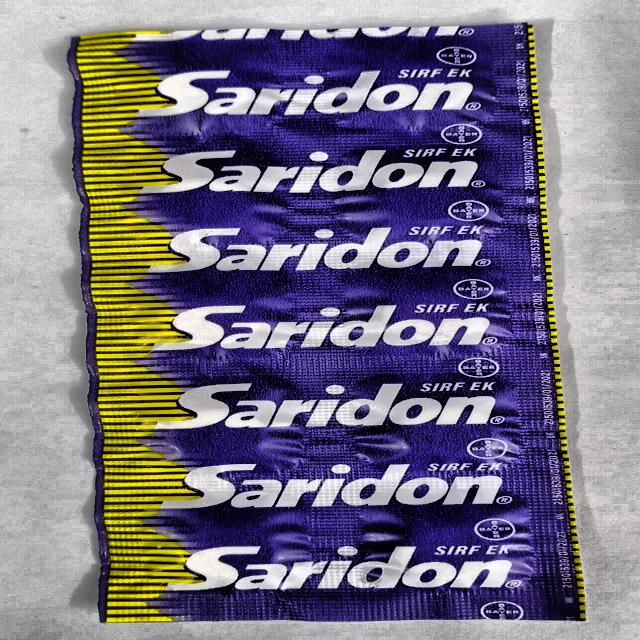Saridon: (59, 32, 586, 622)
